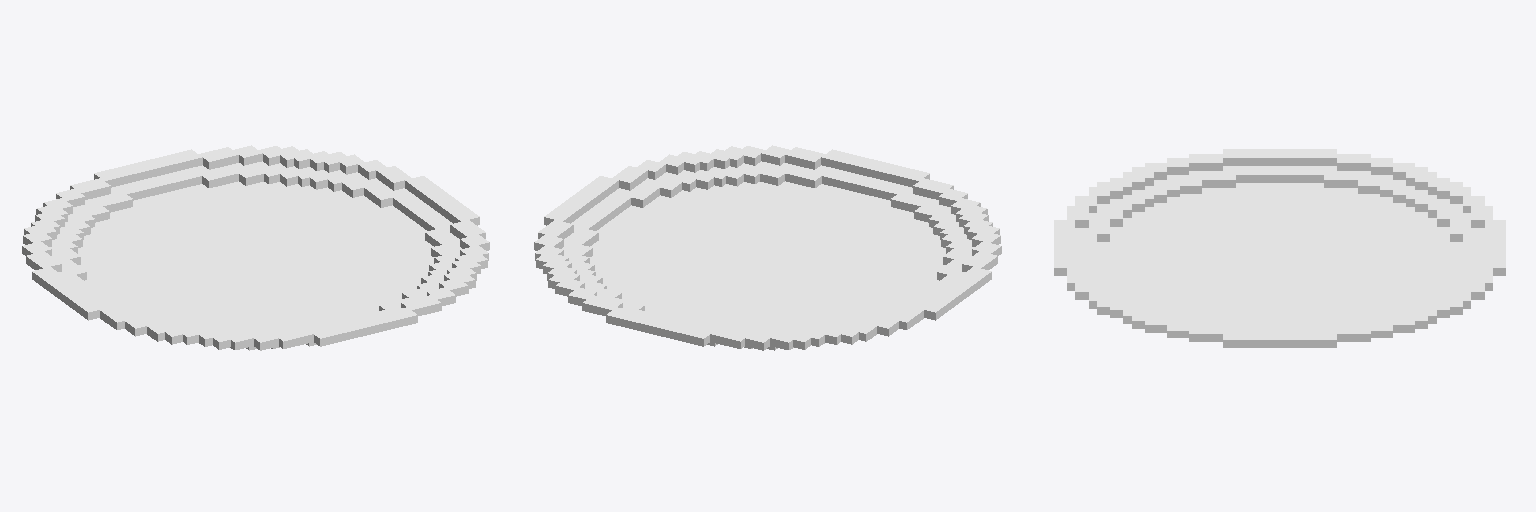
Rendered from Title-8.obj.
3 renders of one model, left to right at view 1: azimuth 30°, elevation 25°; view 2: azimuth 150°, elevation 25°; view 3: azimuth 270°, elevation 25°, orthographic.
Visible parts, largest first — view 1: object 1; view 2: object 1; view 3: object 1.
Boxes of the visible parts, x1,y1,x2,y2 form: object 1: [22, 145, 489, 350]; object 1: [534, 145, 1001, 350]; object 1: [1054, 149, 1505, 347].
Bounding box in the file's own units: 10.4 × 0.6 × 10.4.